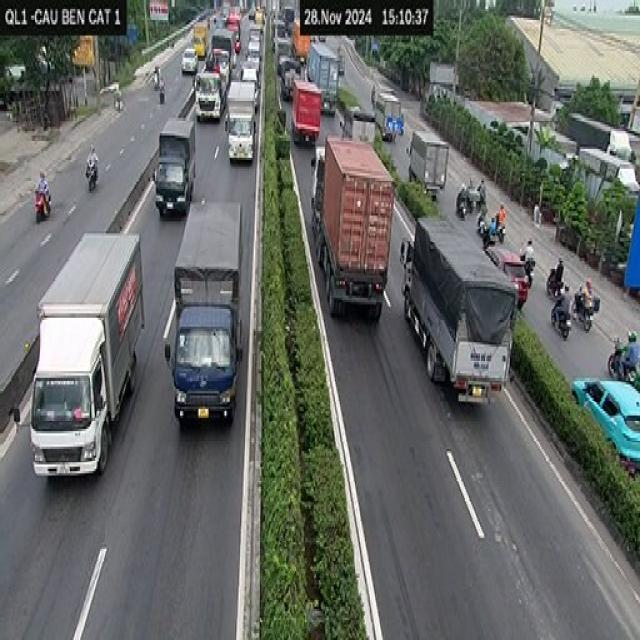car: (571, 362, 640, 473)
container-truck: (310, 133, 394, 330), (306, 41, 342, 120)
truck: (29, 228, 147, 488), (402, 198, 519, 412), (164, 197, 249, 430), (154, 116, 199, 228), (407, 130, 451, 202), (225, 78, 261, 165), (290, 77, 324, 154)
